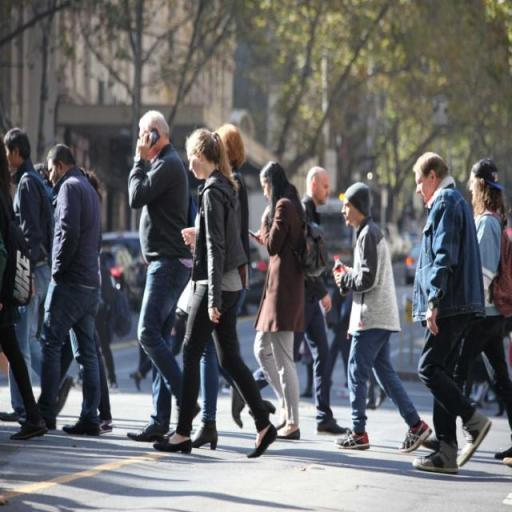person: (153, 116, 279, 460), (408, 151, 491, 477), (332, 180, 429, 457), (127, 112, 203, 444), (25, 139, 105, 438), (186, 127, 250, 453), (4, 130, 74, 423), (253, 157, 307, 442), (465, 156, 512, 461), (302, 161, 351, 438)
